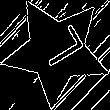L_SW: (28, 25, 85, 77)
